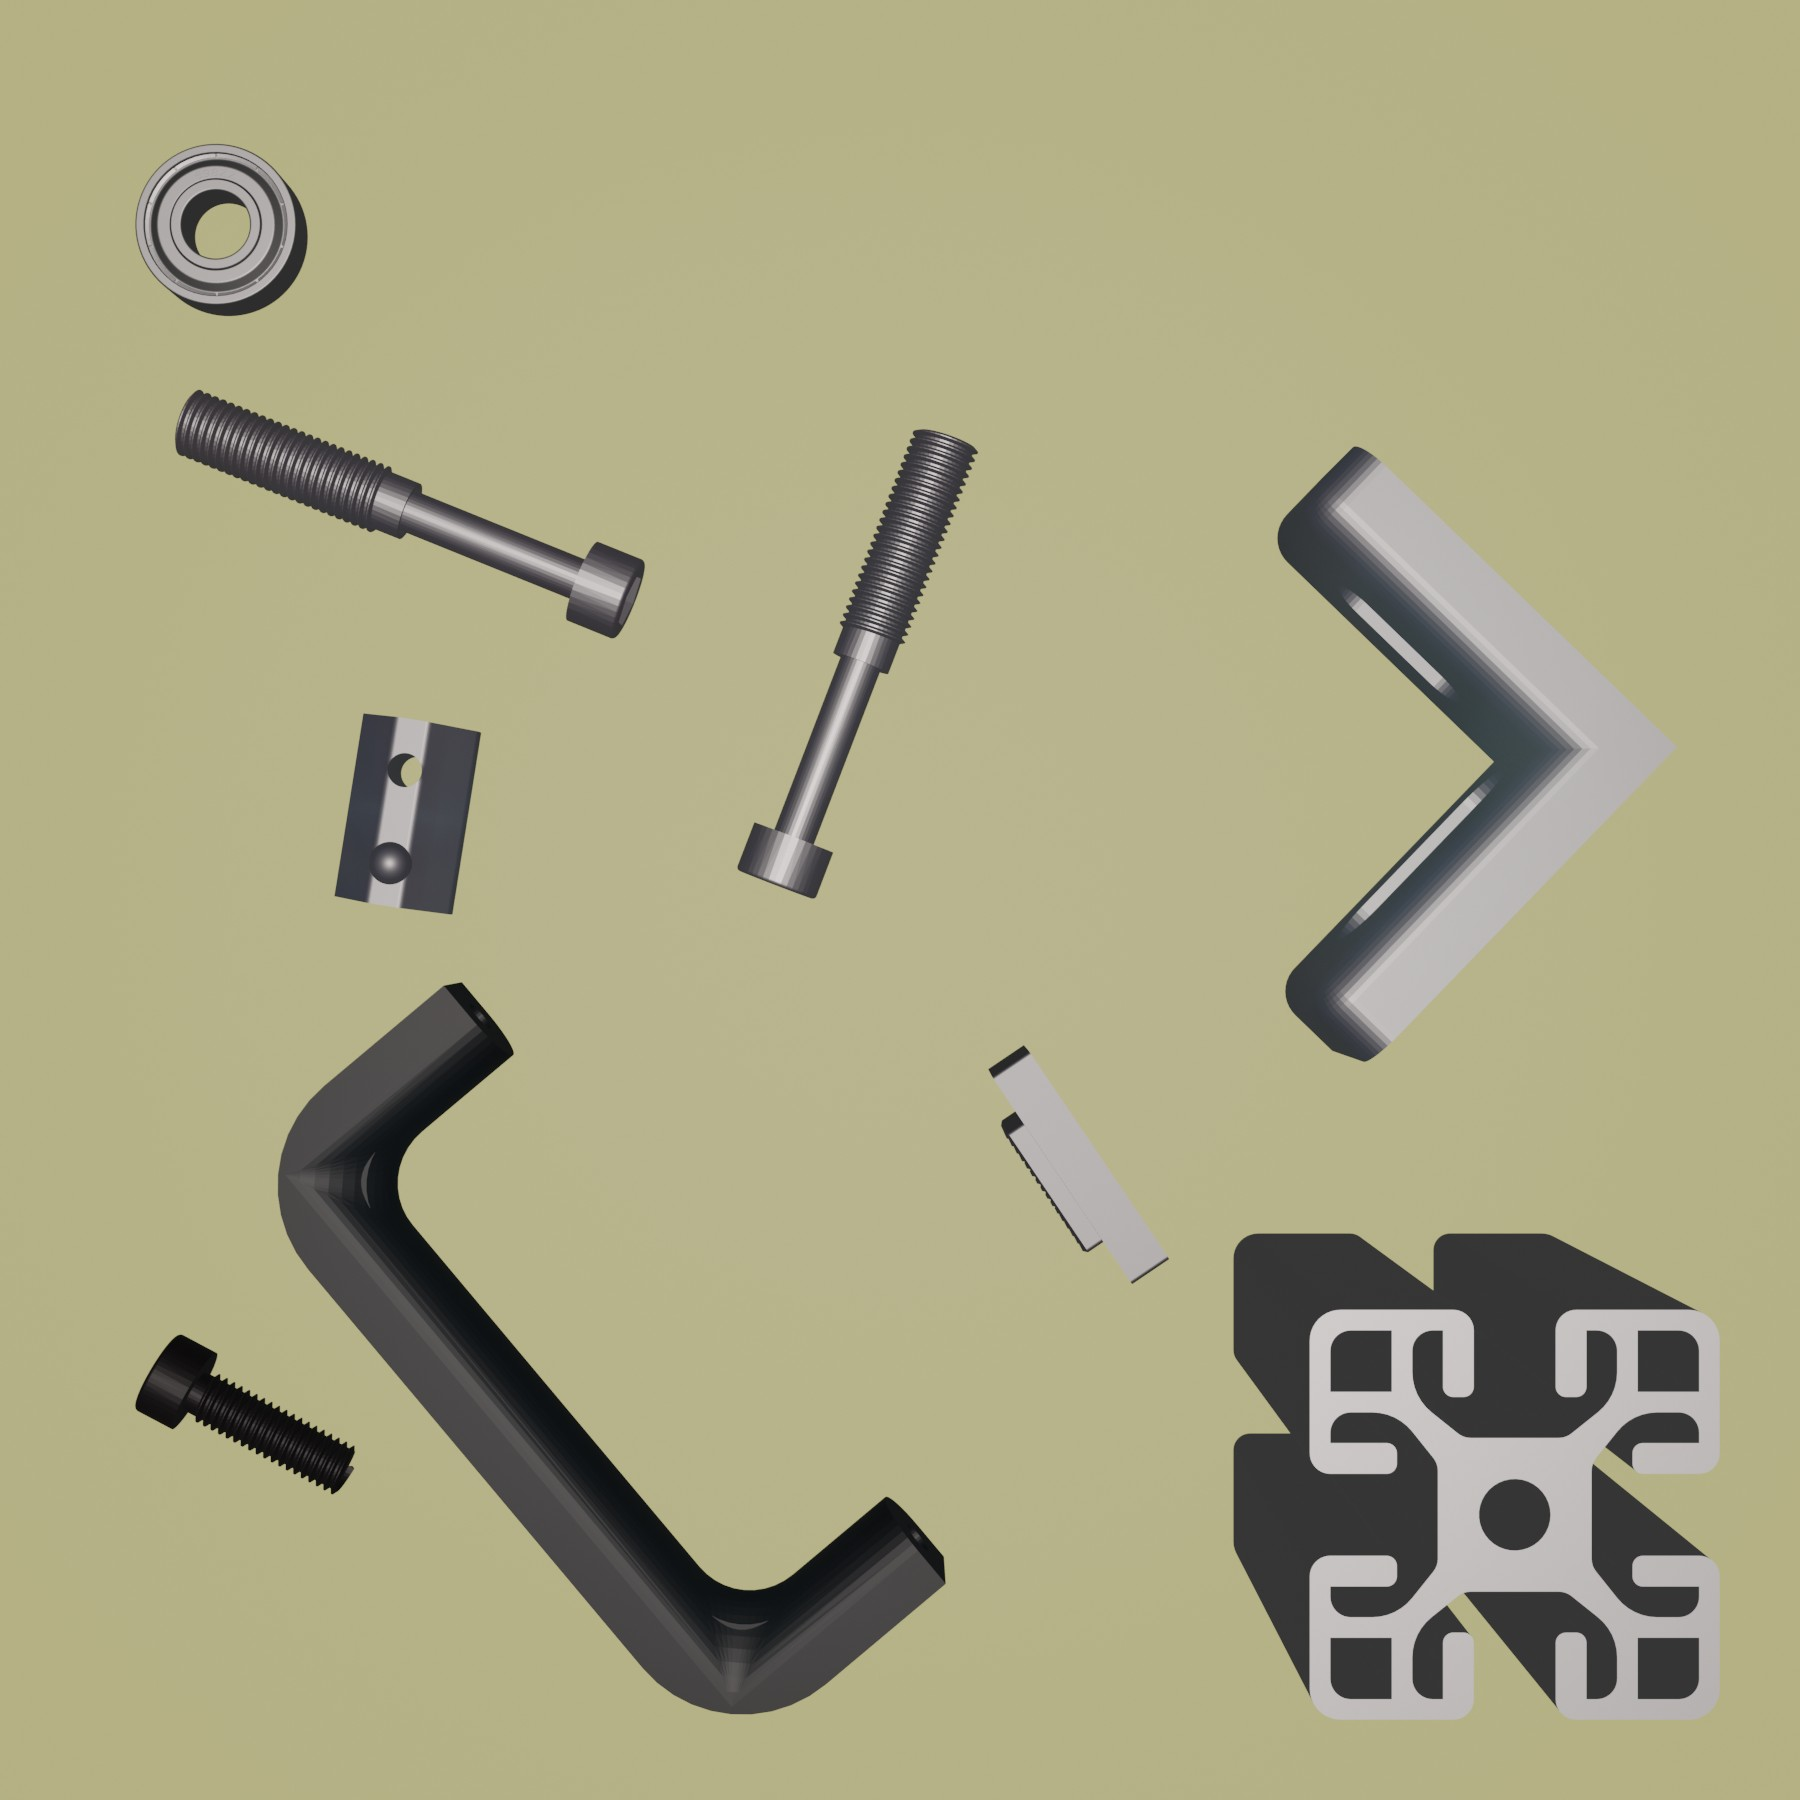Aluminium Extension: (1225, 1228, 1724, 1727)
Ball Bearing: (130, 142, 308, 318)
Multiwinkel: (1277, 447, 1685, 1063)
Pull Handle: (277, 982, 948, 1716)
Shoulder Socket Head Cap Screw: (170, 386, 646, 640), (734, 425, 982, 902)
Socket Head Cap Screw: (132, 1330, 358, 1495)
T Nut Square: (986, 1042, 1170, 1286)
T Spring Nut: (331, 712, 481, 916)
